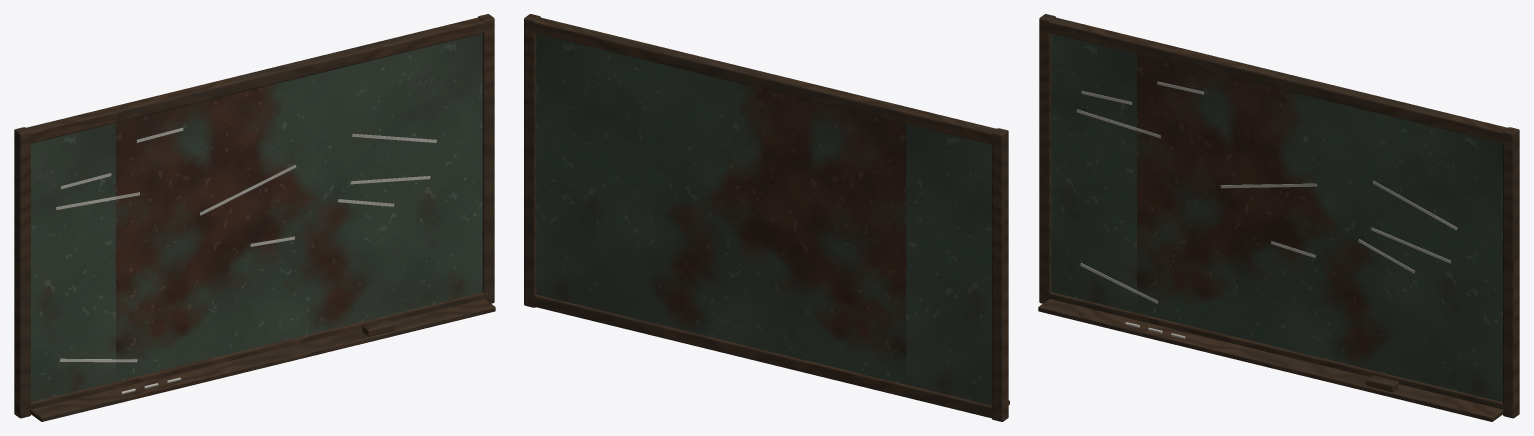
Rendered from S02_blackboard.glb.
3 renders of one model, left to right at view 1: azimuth 30°, elevation 25°; view 2: azimuth 150°, elevation 25°; view 3: azimuth 330°, elevation 25°, orthographic.
Parts seen in each view (by area): view 1: S02_blackboard; view 2: S02_blackboard; view 3: S02_blackboard.
Boxes of the visible parts, bbox=[...] form: S02_blackboard: bbox=[14, 14, 495, 421]; S02_blackboard: bbox=[524, 14, 1009, 421]; S02_blackboard: bbox=[1038, 14, 1519, 421].
Bounding box in the file's own units: 2 × 1.15 × 0.1292.
Materials: 3 (3 with a texture image).
